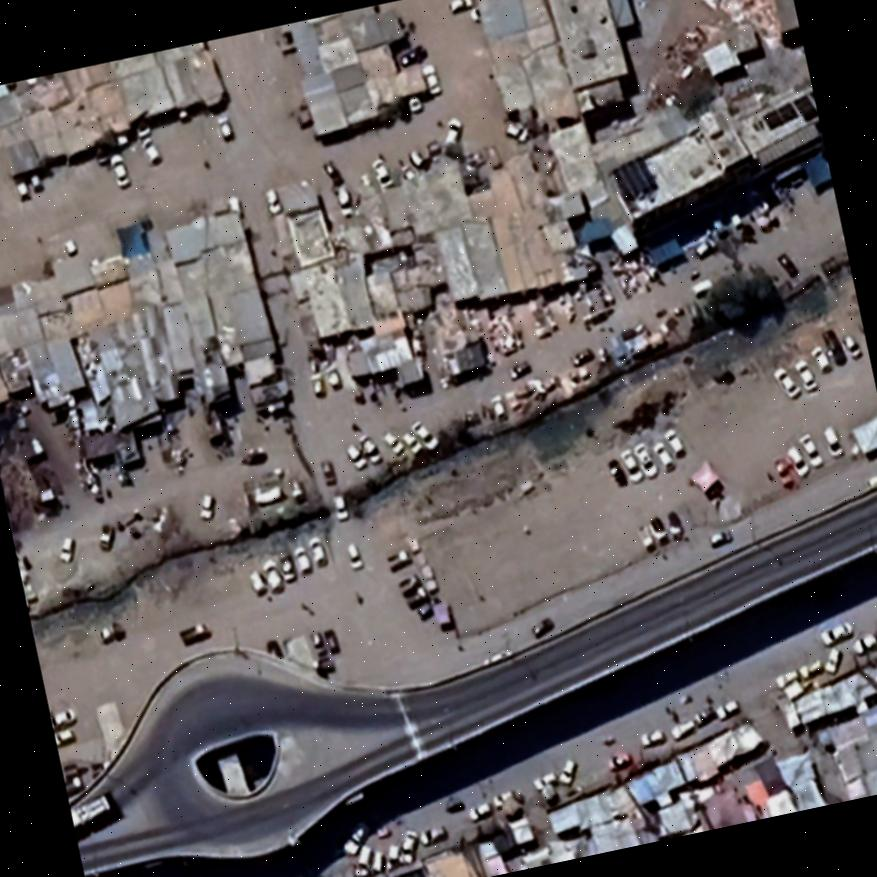Solarpanel: (744, 79, 820, 145), (602, 150, 668, 207)
